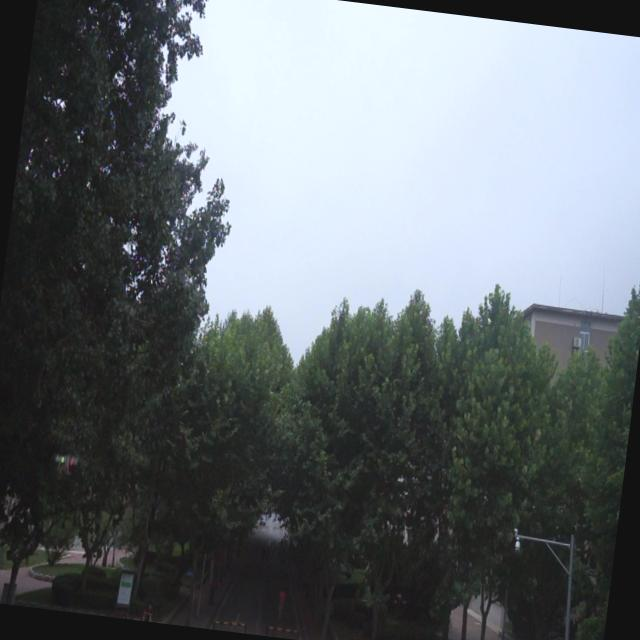drone: (48, 444, 82, 478)
